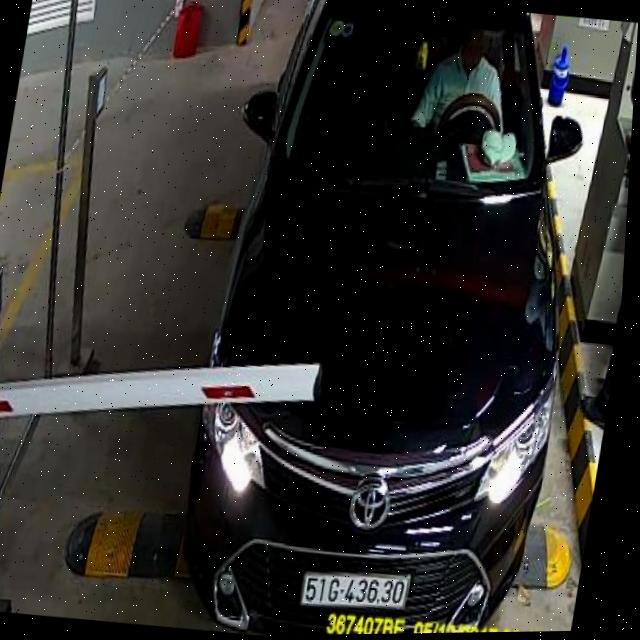car: (156, 0, 622, 637)
plate: (295, 565, 414, 612)
